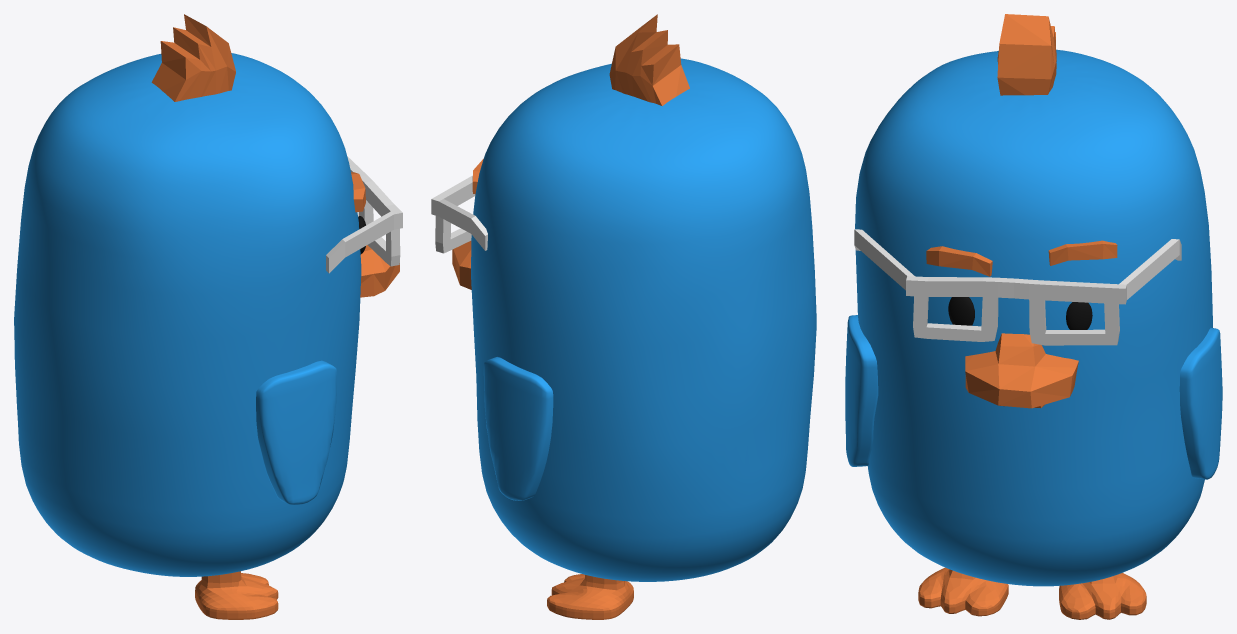
Rendered from ducks2.fbx.
The picture shows the model from 3 angles, left to right: view 1: azimuth 30°, elevation 25°; view 2: azimuth 150°, elevation 25°; view 3: azimuth 270°, elevation 25°; orthographic projection. The views are drawn at different scales.
Parts seen in each view (by area): view 1: Cylinder.005, Cylinder.004, Cube.007, Plane.006, Plane.008, Cube.008; view 2: Cylinder.005, Cylinder.004, Cube.007, Plane.008, Plane.006, Cube.008; view 3: Cylinder.005, Plane.006, Cylinder.004, Plane.008, Cube.008, Cube.007, Cube.006, Icosphere.002.
Part boxes in pixels (bbox=[...]): Cylinder.005: bbox=[14, 53, 361, 576]; Cylinder.004: bbox=[256, 360, 336, 504]; Cube.007: bbox=[151, 14, 235, 101]; Plane.006: bbox=[326, 156, 402, 273]; Plane.008: bbox=[195, 571, 278, 619]; Cube.008: bbox=[360, 245, 399, 297]; Cylinder.005: bbox=[471, 58, 816, 581]; Cylinder.004: bbox=[483, 357, 553, 500]; Cube.007: bbox=[609, 14, 689, 105]; Plane.008: bbox=[547, 574, 633, 619]; Plane.006: bbox=[431, 175, 487, 253]; Cube.008: bbox=[452, 241, 471, 289]; Cylinder.005: bbox=[855, 49, 1212, 586]; Plane.006: bbox=[854, 229, 1181, 345]; Cylinder.004: bbox=[845, 315, 1222, 479]; Plane.008: bbox=[918, 567, 1146, 619]; Cube.008: bbox=[965, 333, 1078, 408]; Cube.007: bbox=[997, 14, 1056, 95]; Cube.006: bbox=[926, 240, 1117, 276]; Icosphere.002: bbox=[948, 297, 1092, 329].
Bounding box in the file's own units: 22.98 × 35.94 × 21.23.
